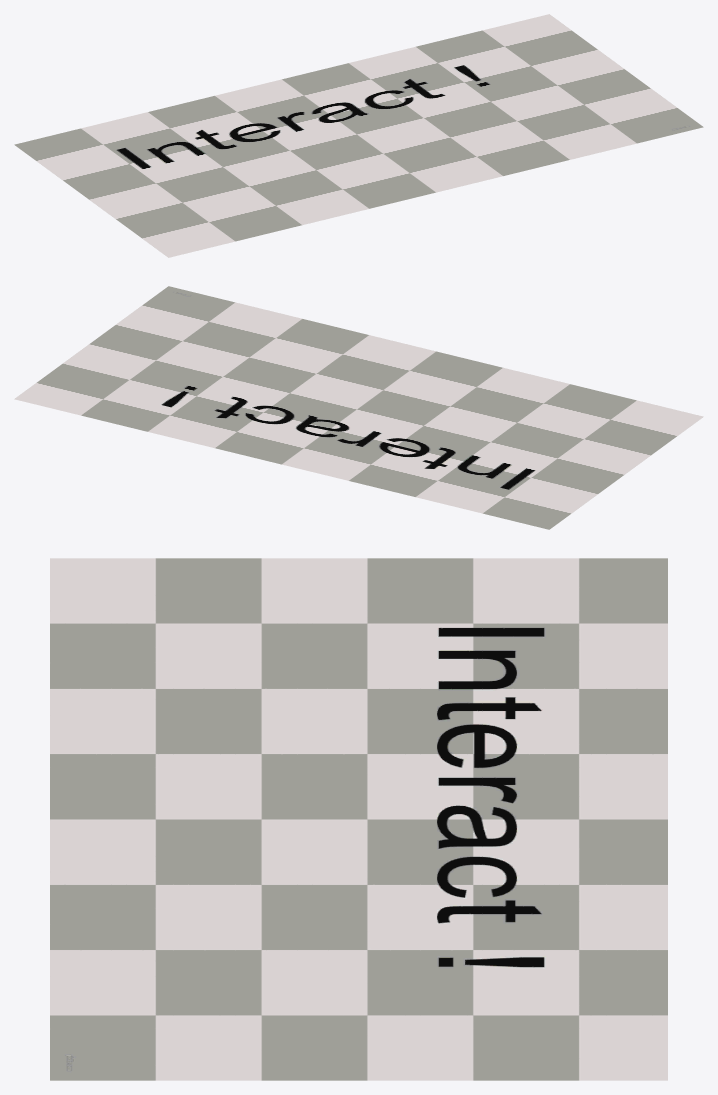
Rendered from 3-interaction_message.obj.
3 renders of one model, top to bottom at view 1: azimuth 30°, elevation 25°; view 2: azimuth 150°, elevation 25°; view 3: azimuth 270°, elevation 25°, orthographic. The views are drawn at different scales.
Visible parts, largest first — view 1: 3-Interaction Message; view 2: 3-Interaction Message; view 3: 3-Interaction Message.
Part boxes in pixels (bbox=[...]): 3-Interaction Message: bbox=[14, 14, 703, 257]; 3-Interaction Message: bbox=[14, 286, 703, 529]; 3-Interaction Message: bbox=[50, 558, 667, 1080].
Size of the model in its own units: 2 by 0 by 1.
Materials: 1 (1 with a texture image).
